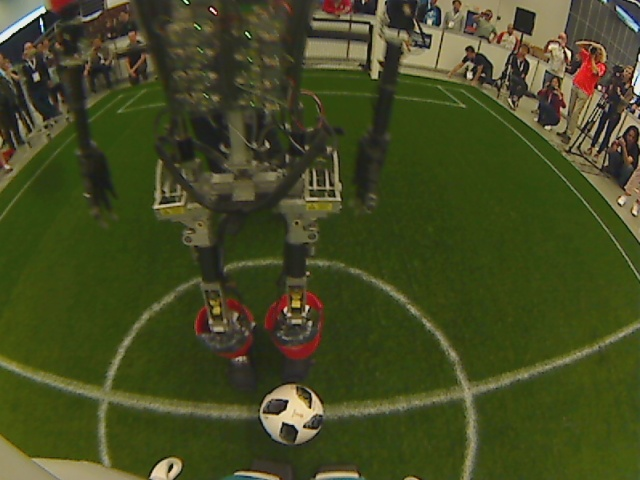ball: (257, 380, 331, 449)
